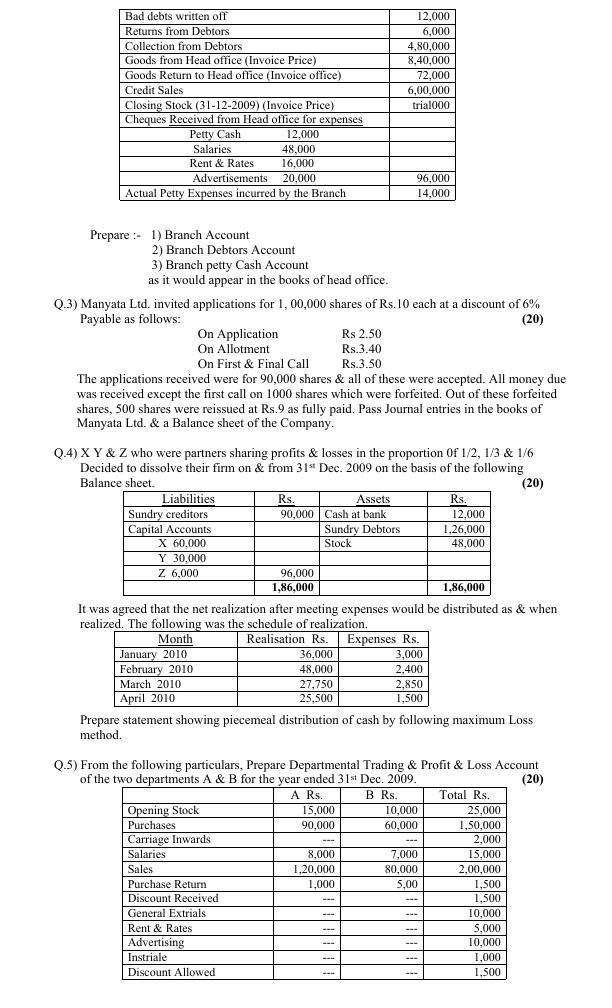table: (118, 786, 513, 985), (115, 4, 459, 207), (118, 489, 496, 601), (107, 629, 435, 709)
text: (50, 296, 577, 431), (53, 442, 554, 490), (87, 228, 391, 286), (72, 599, 560, 630), (49, 755, 549, 785), (80, 712, 535, 744)
